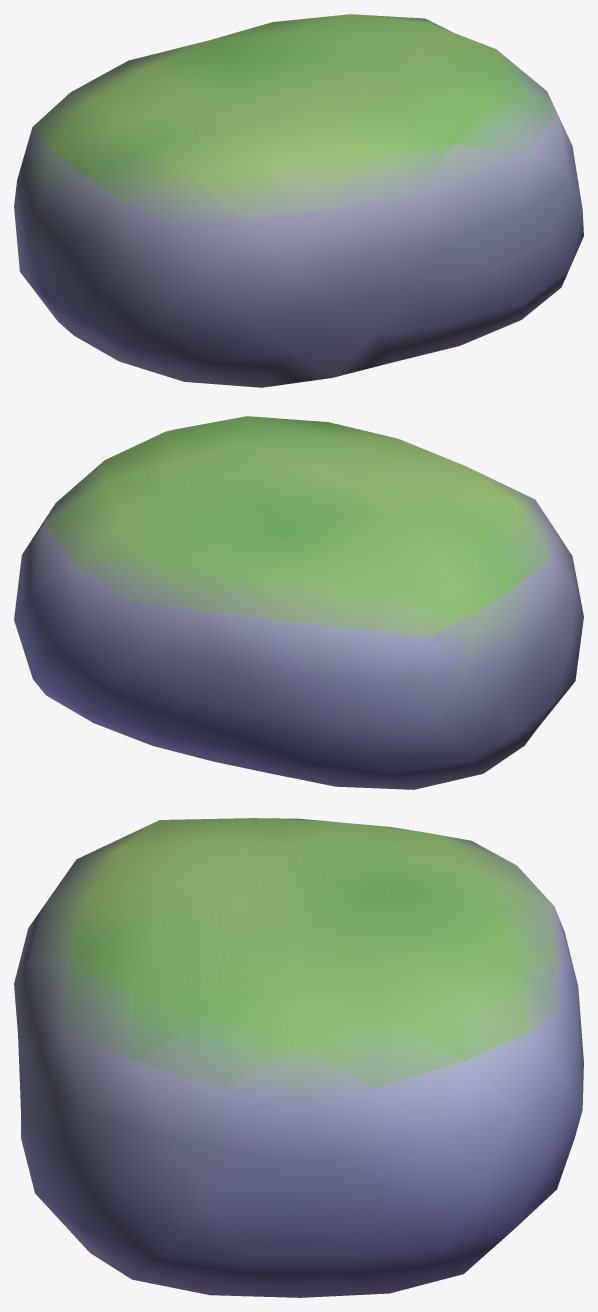
Rendered from verdant_rock_river_a.glb.
3 views of the same model, one above another, from view 1: azimuth 30°, elevation 25°; view 2: azimuth 150°, elevation 25°; view 3: azimuth 270°, elevation 25° (orthographic). The views are drawn at different scales.
Visible parts, largest first — view 1: verdant_rock_river_a; view 2: verdant_rock_river_a; view 3: verdant_rock_river_a.
Part boxes in pixels (left/top/right/bottom): verdant_rock_river_a: left=14, top=14, right=583, bottom=387; verdant_rock_river_a: left=14, top=416, right=583, bottom=789; verdant_rock_river_a: left=14, top=818, right=583, bottom=1297.
Bounding box in the file's own units: 1.1 × 0.496 × 0.9068.
